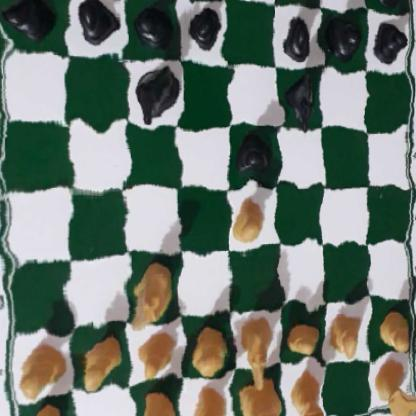black-knight: (140, 61, 177, 121), (284, 68, 315, 128)
black-pawn: (185, 0, 219, 57), (279, 9, 316, 59), (135, 0, 171, 51), (236, 129, 272, 180), (9, 0, 54, 38), (373, 16, 407, 65), (327, 8, 359, 59), (77, 0, 113, 45)
black-rook: (370, 0, 411, 5)
white-bishop: (289, 369, 324, 416), (138, 387, 182, 416)
white-king: (238, 368, 279, 416)
white-knight: (127, 256, 174, 328), (235, 316, 276, 389)
white-pawn: (18, 339, 64, 399), (76, 328, 119, 386), (135, 327, 177, 382), (189, 321, 230, 376), (328, 304, 366, 357), (230, 197, 266, 244), (377, 306, 408, 355), (288, 313, 320, 360)
white-queen: (187, 379, 230, 416)
white-rook: (373, 353, 412, 416), (12, 397, 63, 416)
